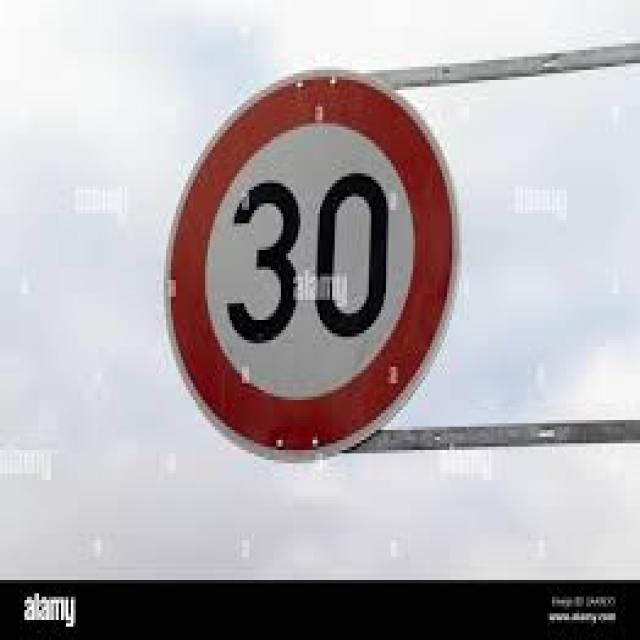speed_30: (162, 67, 463, 459)
